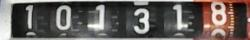digits: (165, 3, 193, 33), (91, 3, 113, 34), (133, 7, 150, 34), (56, 4, 71, 29), (210, 2, 227, 24), (25, 4, 33, 28)
